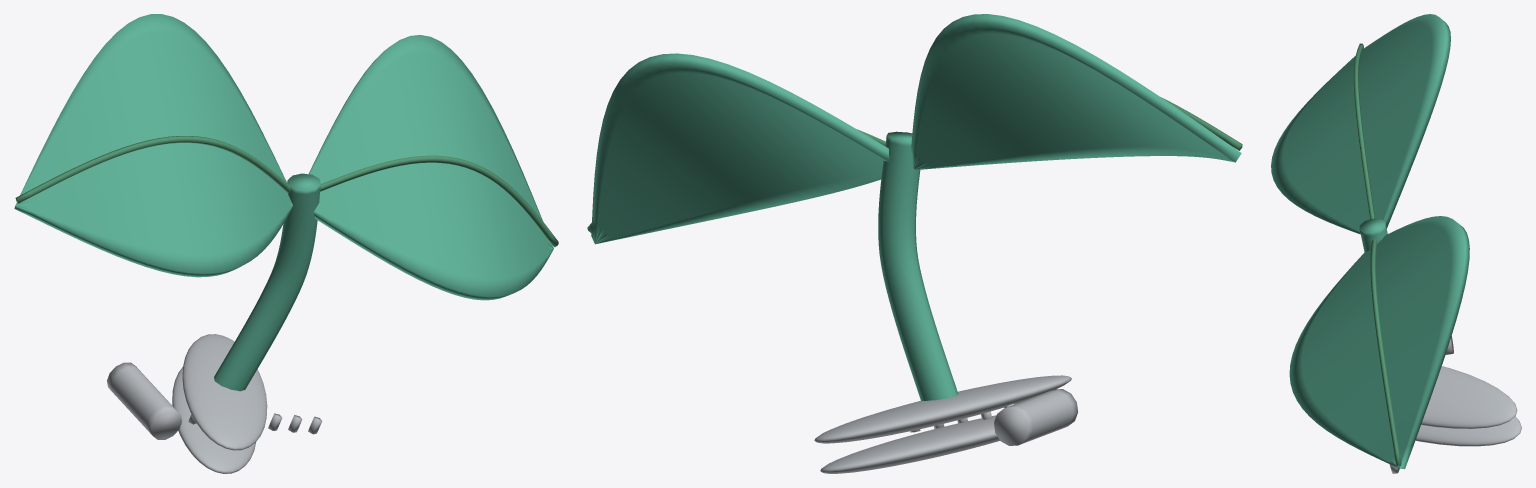
The model's file is Feminine-side-sweep-ears261-sprout.glb.
3 renders of one model, left to right at view 1: azimuth 30°, elevation 25°; view 2: azimuth 150°, elevation 25°; view 3: azimuth 270°, elevation 25°, orthographic. The views are drawn at different scales.
Visible parts, largest first — view 1: 226 extra / Accessory / mint226, 226 extra / Sprout / clip silver235, 226 extra / Sprout / leaf vein235; view 2: 226 extra / Accessory / mint226, 226 extra / Sprout / clip silver235; view 3: 226 extra / Accessory / mint226, 226 extra / Sprout / clip silver235, 226 extra / Sprout / leaf vein235.
Boxes of the visible parts, bbox=[...] form: 226 extra / Accessory / mint226: bbox=[14, 14, 553, 391]; 226 extra / Sprout / clip silver235: bbox=[107, 334, 322, 473]; 226 extra / Sprout / leaf vein235: bbox=[15, 136, 558, 247]; 226 extra / Accessory / mint226: bbox=[591, 14, 1241, 400]; 226 extra / Sprout / clip silver235: bbox=[814, 375, 1077, 473]; 226 extra / Accessory / mint226: bbox=[1271, 14, 1469, 469]; 226 extra / Sprout / clip silver235: bbox=[1389, 336, 1521, 473]; 226 extra / Sprout / leaf vein235: bbox=[1353, 43, 1401, 466].
Size of the model in its own units: 0.2575 by 0.189 by 0.111.
